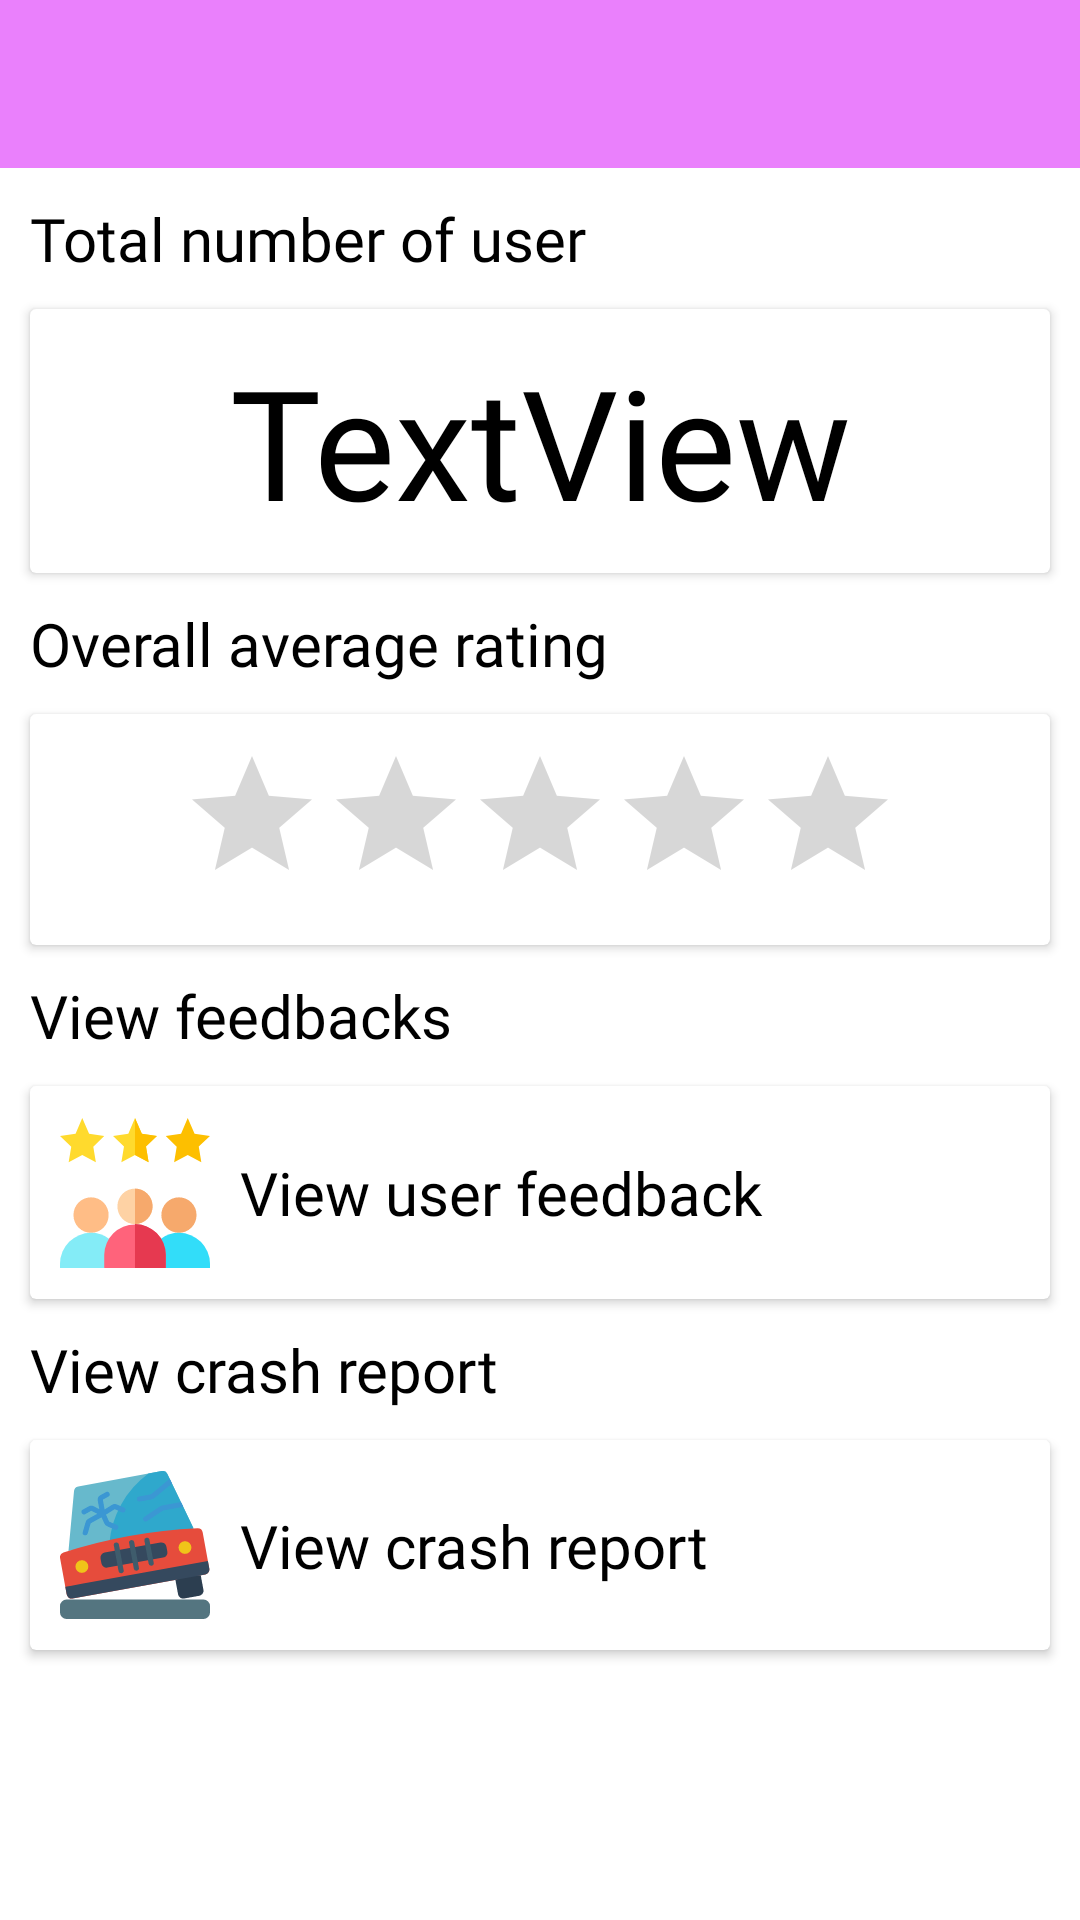

Icons on this 1080x1920 Android screen, each with its box as (x1, y1, x2, y2):
accidentcar: (60, 1471, 210, 1619)
review: (60, 1118, 210, 1268)
